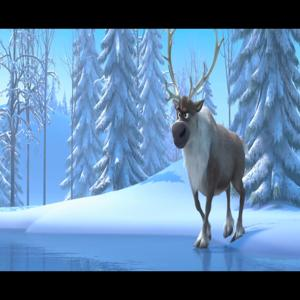sven: (158, 34, 255, 242)
